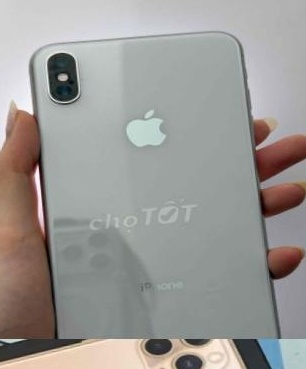scratch: (75, 72, 90, 87)
